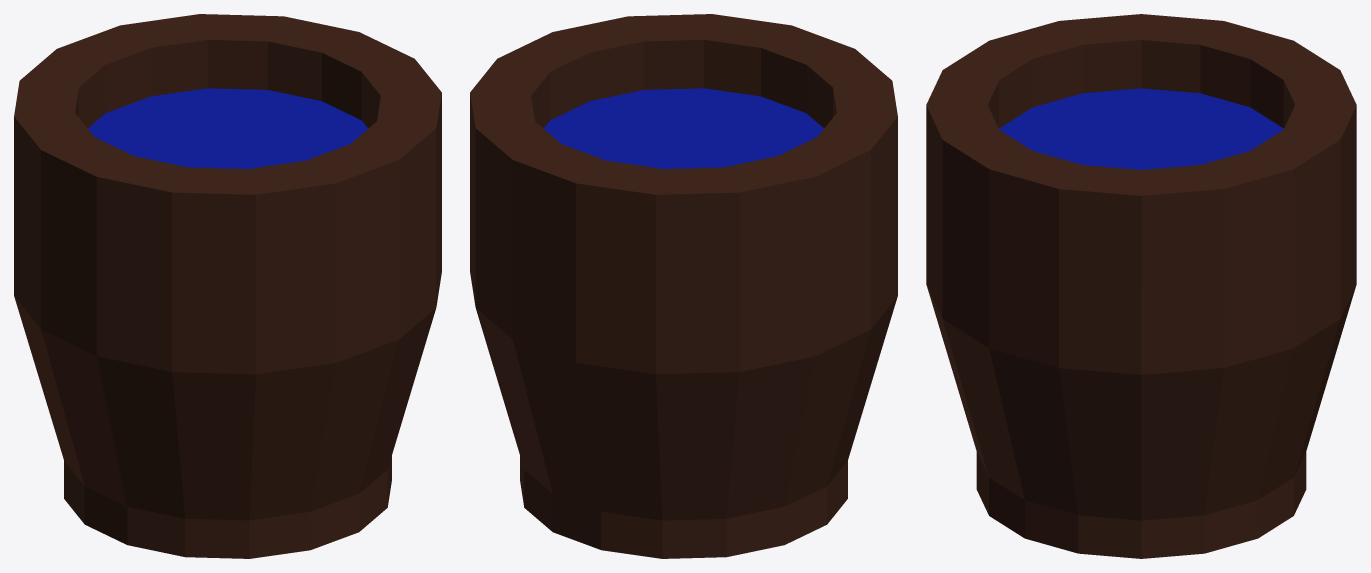
Rendered from filled.fbx.
The picture shows the model from 3 angles, left to right: view 1: azimuth 30°, elevation 25°; view 2: azimuth 150°, elevation 25°; view 3: azimuth 270°, elevation 25°; orthographic projection.
Parts seen in each view (by area): view 1: Cylinder; view 2: Cylinder; view 3: Cylinder.
Boxes of the visible parts, x1,y1,x2,y2 form: Cylinder: (14,14,441,558); Cylinder: (470,14,897,558); Cylinder: (926,14,1356,558).
Bounding box in the file's own units: 200 × 197 × 200.
